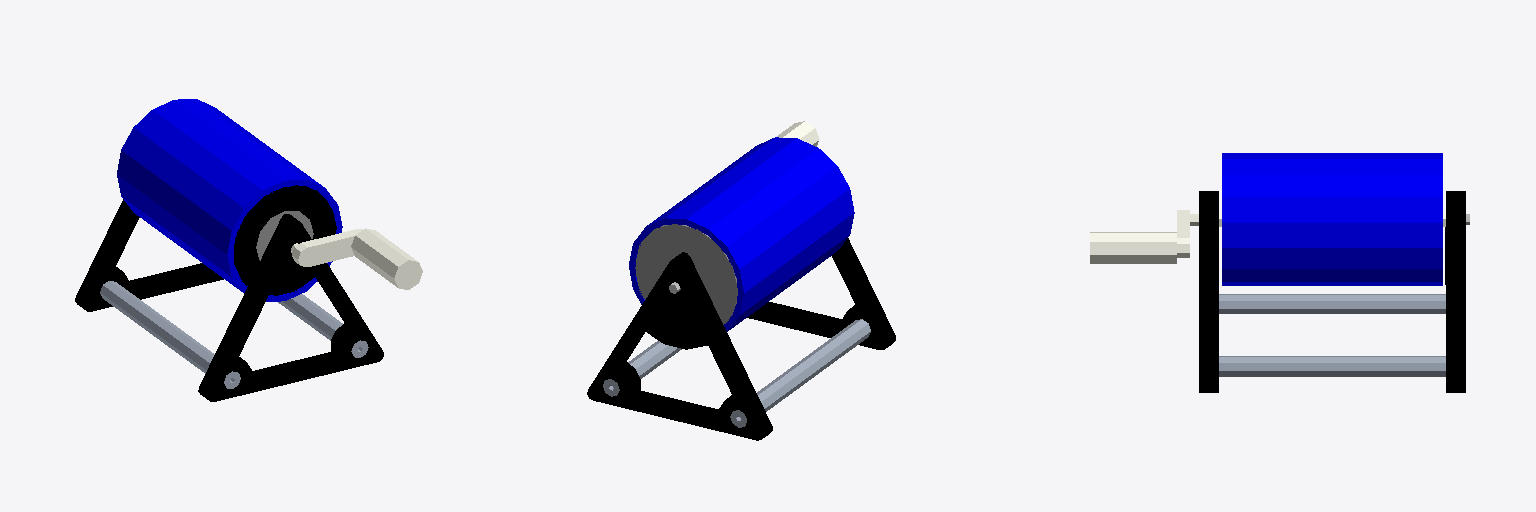
File: baugruppe2.obj
3 renders of one model, left to right at view 1: azimuth 30°, elevation 25°; view 2: azimuth 150°, elevation 25°; view 3: azimuth 270°, elevation 25°, orthographic.
Parts seen in each view (by area): view 1: 90, 1, 66, 92, 4, 44, 24, 3, 88; view 2: 90, 66, 88, 1, 4, 3, 44; view 3: 90, 3, 4, 66, 1, 44, 24.
Part boxes in pixels (bbox=[...]): 90: bbox=[117, 99, 342, 301]; 1: bbox=[198, 214, 383, 401]; 66: bbox=[75, 199, 223, 311]; 92: bbox=[234, 185, 336, 295]; 4: bbox=[100, 281, 240, 388]; 44: bbox=[351, 228, 422, 289]; 24: bbox=[291, 229, 362, 266]; 3: bbox=[278, 294, 368, 357]; 88: bbox=[256, 211, 313, 260]; 90: bbox=[629, 137, 854, 331]; 66: bbox=[587, 252, 772, 440]; 88: bbox=[635, 224, 737, 324]; 1: bbox=[747, 238, 895, 349]; 4: bbox=[730, 319, 870, 427]; 3: bbox=[603, 341, 681, 396]; 44: bbox=[777, 121, 819, 146]; 90: bbox=[1222, 153, 1442, 285]; 3: bbox=[1219, 356, 1445, 376]; 4: bbox=[1219, 294, 1445, 313]; 66: bbox=[1445, 191, 1465, 392]; 1: bbox=[1199, 191, 1218, 392]; 44: bbox=[1090, 232, 1176, 263]; 24: bbox=[1177, 210, 1198, 257].
Bounding box in the file's own units: 153 × 160 × 285.